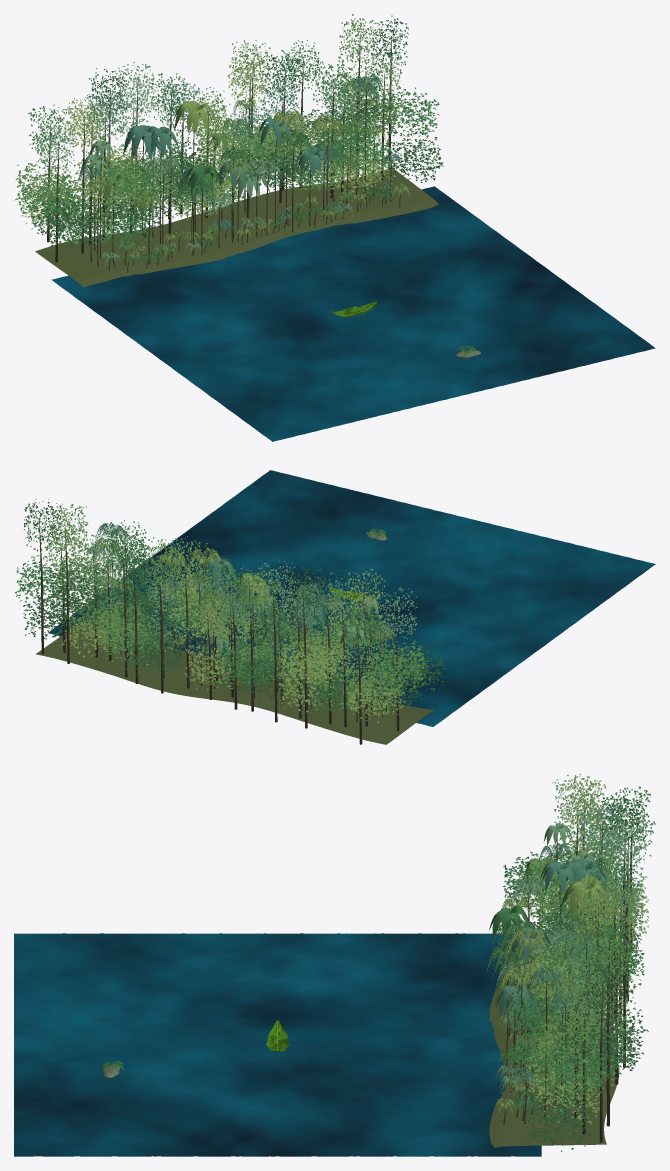
The model's file is lakeleaf-r02.glb.
The picture shows the model from 3 angles, top to bottom: view 1: azimuth 30°, elevation 25°; view 2: azimuth 150°, elevation 25°; view 3: azimuth 270°, elevation 25°; orthographic projection. The views are drawn at different scales.
Visible parts, largest first — view 1: LAKE_001_WaterSurface, SHORE_001_ObservedBankSector, MIDSTOREY_053_Crown, MIDSTOREY_027_Crown, MIDSTOREY_049_Crown, MIDSTOREY_019_Crown, MIDSTOREY_041_Crown, MIDSTOREY_006_Crown, MIDSTOREY_017_Crown, MIDSTOREY_047_Crown, MIDSTOREY_023_Crown, MIDSTOREY_001_Crown (+31 smaller); view 2: LAKE_001_WaterSurface, SHORE_001_ObservedBankSector, MIDSTOREY_007_Crown, MIDSTOREY_019_Crown, MIDSTOREY_005_Crown, MIDSTOREY_037_Crown, MIDSTOREY_016_Crown, MIDSTOREY_018_Crown, MIDSTOREY_011_Crown, MIDSTOREY_049_Crown, MIDSTOREY_024_Crown, MIDSTOREY_048_Crown (+62 smaller); view 3: LAKE_001_WaterSurface, SHORE_001_ObservedBankSector, MIDSTOREY_049_Crown, MIDSTOREY_053_Crown, MIDSTOREY_001_Crown, MIDSTOREY_041_Crown, MIDSTOREY_038_Crown, MIDSTOREY_037_Crown, MIDSTOREY_047_Crown, TREE_024_Crown, MIDSTOREY_013_Crown, TREE_023_Crown (+36 smaller).
Part boxes in pixels (box(x1,y1,x2,y2)): LAKE_001_WaterSurface: box(51, 186, 655, 441); SHORE_001_ObservedBankSector: box(35, 168, 438, 287); MIDSTOREY_053_Crown: box(385, 132, 443, 184); MIDSTOREY_027_Crown: box(42, 198, 101, 252); MIDSTOREY_049_Crown: box(381, 87, 439, 138); MIDSTOREY_019_Crown: box(14, 158, 75, 210); MIDSTOREY_041_Crown: box(318, 107, 374, 155); MIDSTOREY_006_Crown: box(17, 173, 76, 223); MIDSTOREY_017_Crown: box(101, 156, 158, 206); MIDSTOREY_047_Crown: box(336, 128, 392, 180); MIDSTOREY_023_Crown: box(95, 204, 152, 249); MIDSTOREY_001_Crown: box(345, 89, 404, 140); LAKE_001_WaterSurface: box(48, 470, 655, 726); SHORE_001_ObservedBankSector: box(36, 622, 434, 744); MIDSTOREY_007_Crown: box(124, 627, 185, 676); MIDSTOREY_019_Crown: box(367, 639, 425, 688); MIDSTOREY_005_Crown: box(223, 638, 281, 687); MIDSTOREY_037_Crown: box(49, 578, 109, 628); MIDSTOREY_016_Crown: box(87, 597, 146, 645); MIDSTOREY_018_Crown: box(346, 673, 405, 723); MIDSTOREY_011_Crown: box(183, 640, 241, 689); MIDSTOREY_049_Crown: box(15, 555, 74, 605); MIDSTOREY_024_Crown: box(296, 637, 354, 684); MIDSTOREY_048_Crown: box(276, 633, 336, 679); LAKE_001_WaterSurface: box(14, 933, 541, 1156); SHORE_001_ObservedBankSector: box(489, 941, 619, 1147); MIDSTOREY_049_Crown: box(538, 1043, 608, 1106); MIDSTOREY_053_Crown: box(525, 1089, 596, 1151); MIDSTOREY_001_Crown: box(536, 1014, 607, 1068); MIDSTOREY_041_Crown: box(506, 986, 573, 1044); MIDSTOREY_038_Crown: box(549, 1009, 619, 1067); MIDSTOREY_037_Crown: box(569, 1019, 638, 1078); MIDSTOREY_047_Crown: box(506, 1024, 574, 1087); TREE_024_Crown: box(578, 957, 624, 1018); MIDSTOREY_013_Crown: box(536, 1064, 603, 1124); TREE_023_Crown: box(561, 983, 608, 1044).
Bounding box in the file's own units: 81.3 × 30.77 × 92.47.
Materials: 12 (2 with a texture image).
